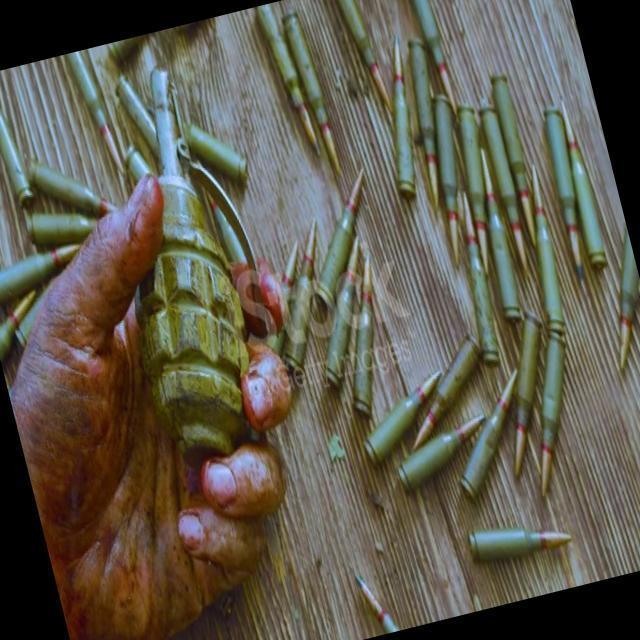grenade: (70, 68, 276, 468)
